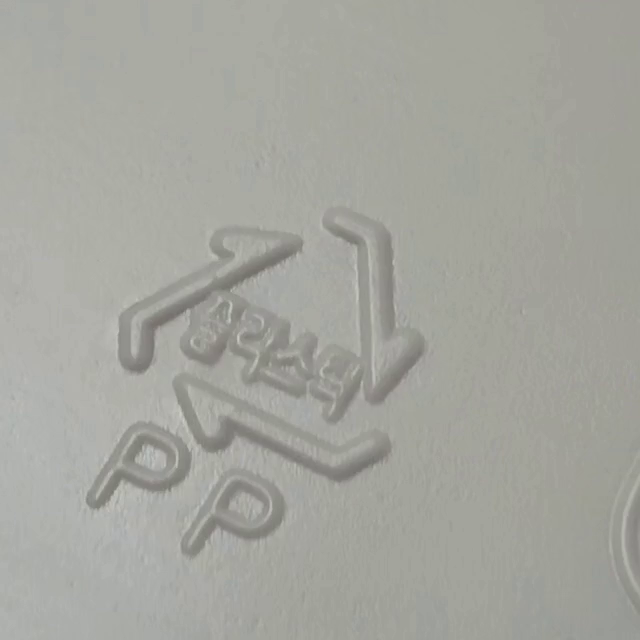Plastic: (116, 206, 424, 481)
